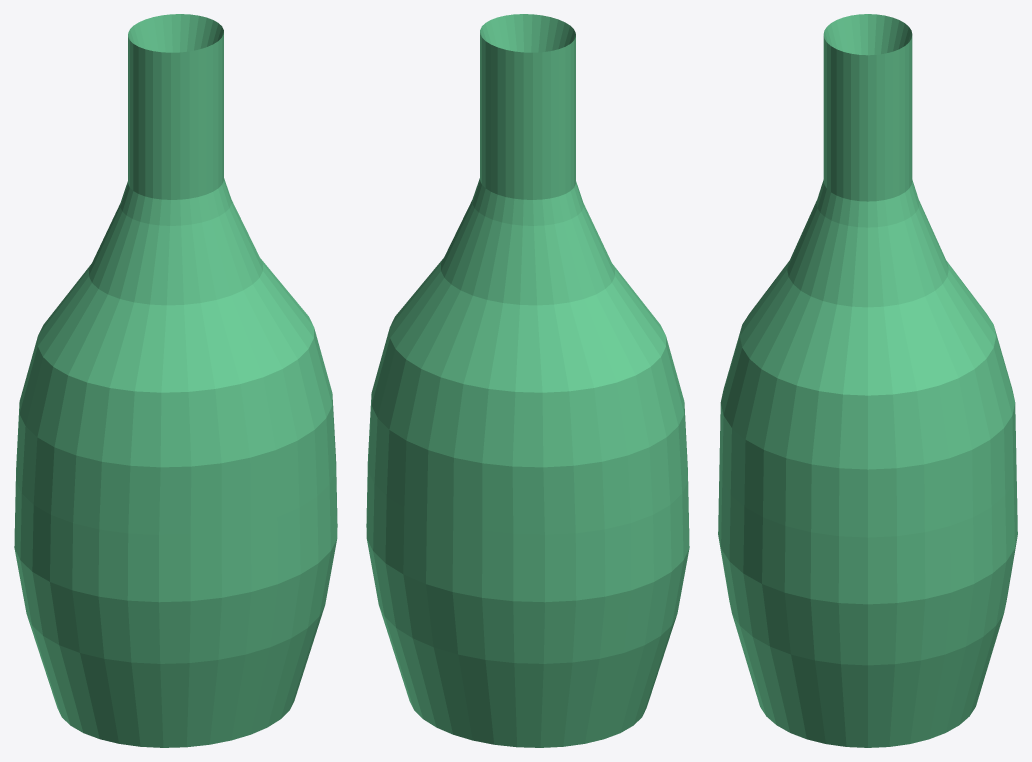
The model's file is bottle_4.fbx.
3 renders of one model, left to right at view 1: azimuth 30°, elevation 25°; view 2: azimuth 150°, elevation 25°; view 3: azimuth 270°, elevation 25°, orthographic.
Visible parts, largest first — view 1: Cylinder; view 2: Cylinder; view 3: Cylinder.
Part boxes in pixels (x1,y1,x2,y2): Cylinder: (14, 14, 337, 747); Cylinder: (366, 14, 689, 747); Cylinder: (718, 14, 1017, 747).
Size of the model in its own units: 33.75 by 74.86 by 30.71.
